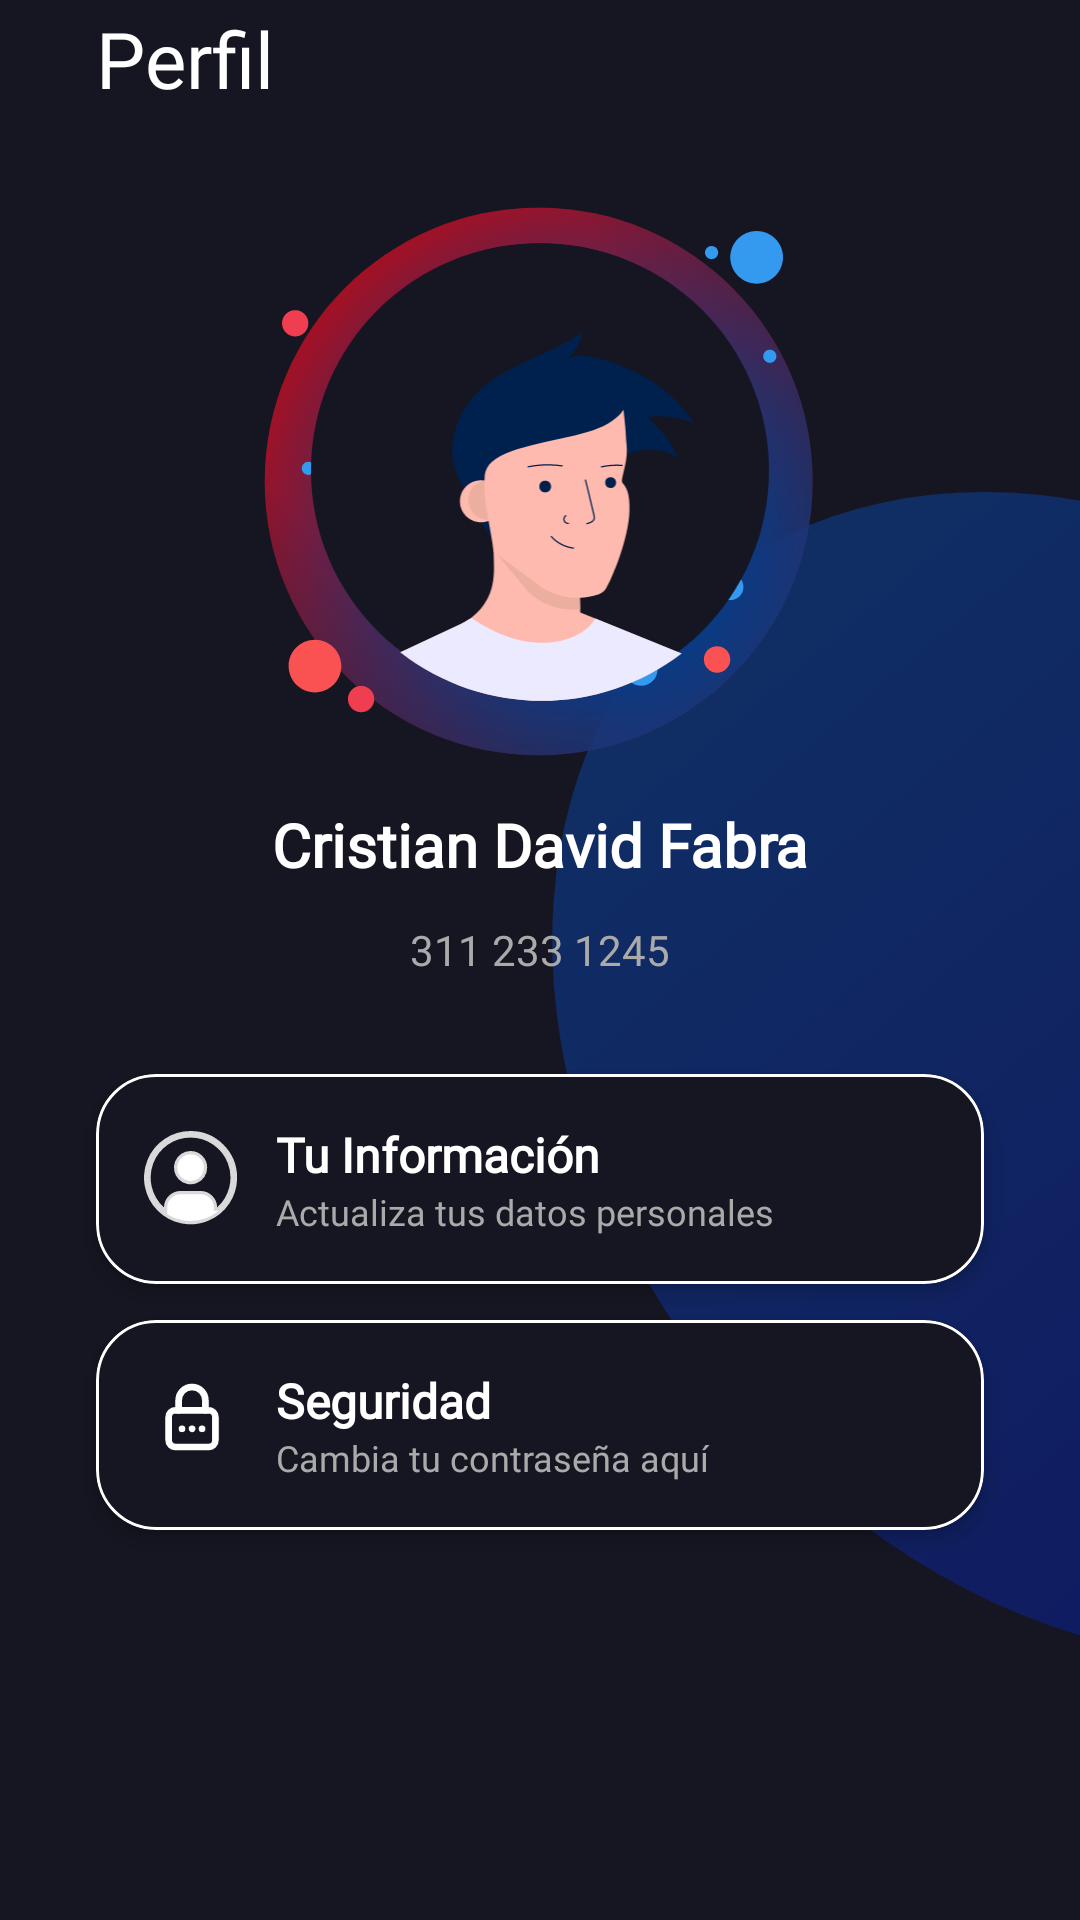

Screen size 1080 × 1920. Icon name, then its center in pixels as [x,y]:
lock: [192,1417]
user: [190,1178]
